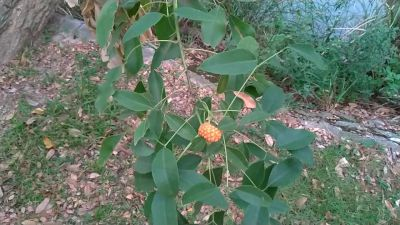eggs: (196, 120, 223, 143)
